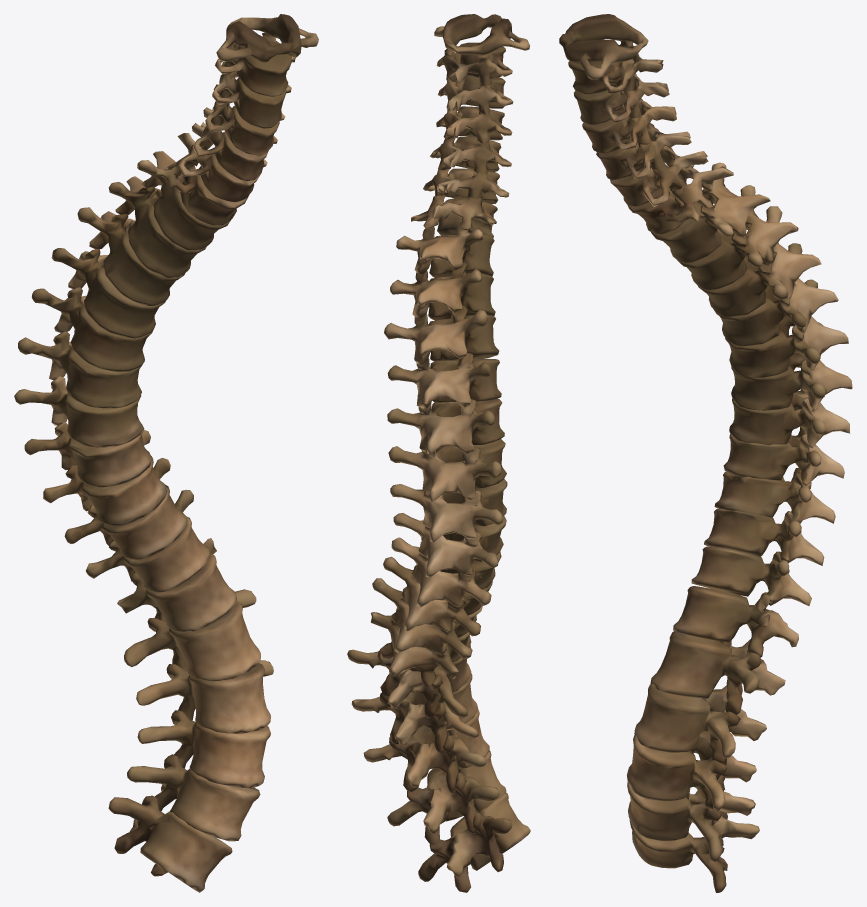
File: Spine.glb
The picture shows the model from 3 angles, left to right: view 1: azimuth 30°, elevation 25°; view 2: azimuth 150°, elevation 25°; view 3: azimuth 270°, elevation 25°; orthographic projection. The views are drawn at different scales.
Visible parts, largest first — view 1: Spine.003; view 2: Spine.003; view 3: Spine.003.
Boxes of the visible parts, x1=… form: Spine.003: x1=14, y1=14, x2=318, y2=892; Spine.003: x1=347, y1=14, x2=530, y2=892; Spine.003: x1=559, y1=14, x2=852, y2=892.
Bounding box in the file's own units: 0.1417 × 0.5738 × 0.1758.
1 material, 1 textured.
